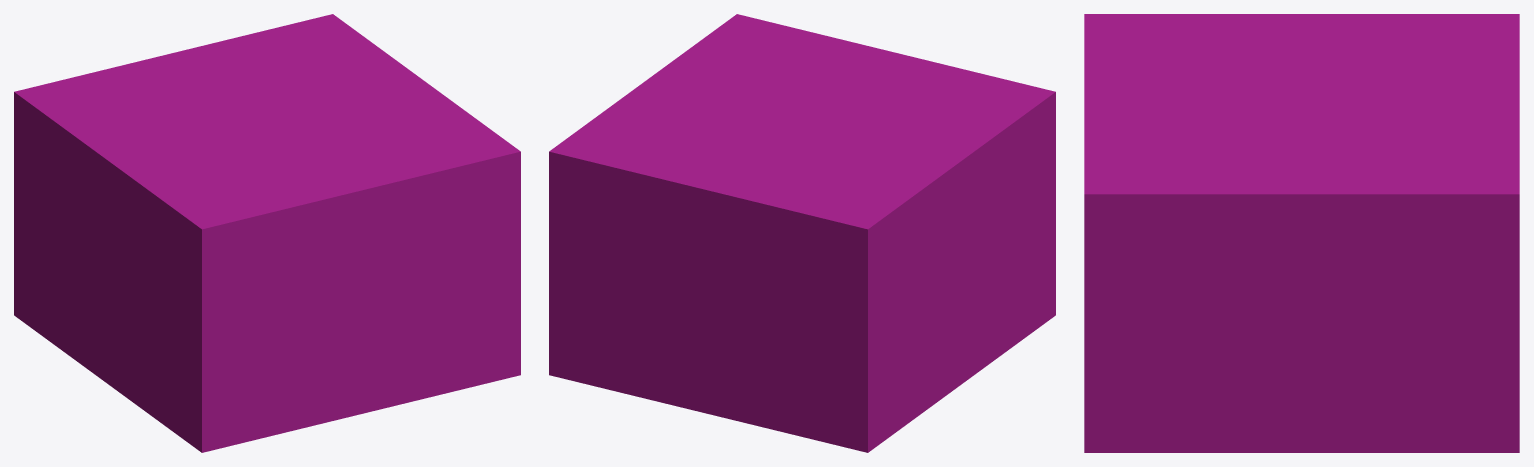
File: fern.DAE
The picture shows the model from 3 angles, left to right: view 1: azimuth 30°, elevation 25°; view 2: azimuth 150°, elevation 25°; view 3: azimuth 270°, elevation 25°; orthographic projection. The views are drawn at different scales.
Visible parts, largest first — view 1: bounds; view 2: bounds; view 3: bounds.
Boxes of the visible parts, x1,y1,x2,y2 form: bounds: [14, 14, 520, 452]; bounds: [549, 14, 1055, 452]; bounds: [1084, 14, 1519, 452].
Bounding box in the file's own units: 3.34 × 3.41 × 2.26.
